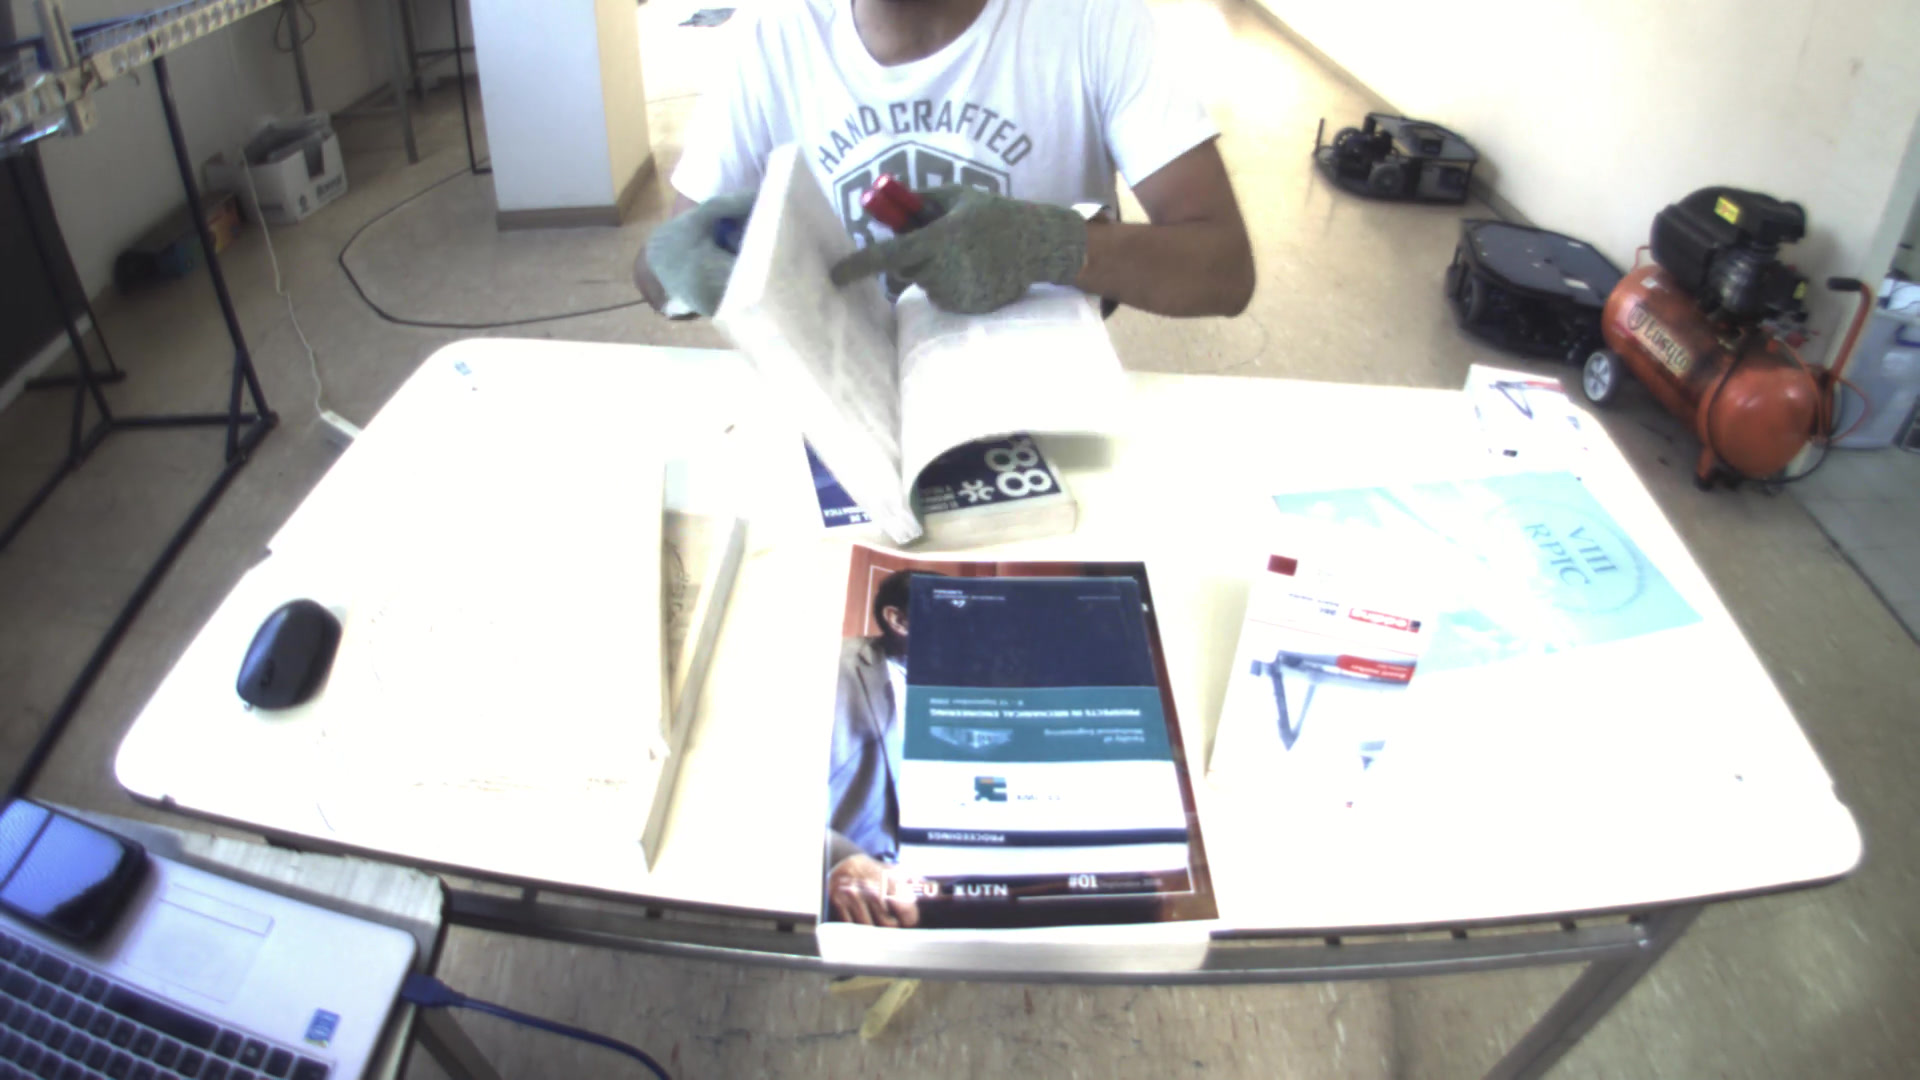hand: (829, 174, 1095, 310), (641, 190, 767, 305)
